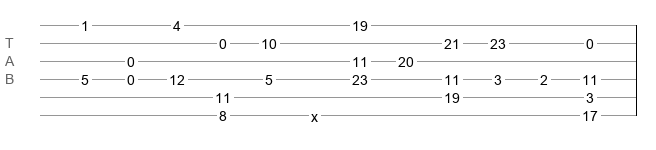0: (127, 54, 135, 64), (127, 72, 135, 82), (219, 36, 227, 46), (586, 36, 594, 46)
1: (81, 18, 89, 28)
10: (261, 36, 277, 46)
11: (215, 90, 231, 100), (352, 54, 368, 64), (444, 72, 460, 82), (582, 72, 598, 82)
12: (169, 72, 185, 82)
17: (582, 108, 598, 118)
19: (352, 18, 368, 28), (444, 90, 460, 100)
2: (540, 72, 548, 82)
20: (398, 54, 414, 64)
21: (444, 36, 460, 46)
23: (352, 72, 368, 82), (490, 36, 506, 46)
3: (494, 72, 502, 82), (586, 90, 594, 100)
4: (173, 18, 181, 28)
5: (81, 72, 89, 82), (265, 72, 273, 82)
8: (219, 108, 227, 118)
x: (311, 109, 318, 117)
